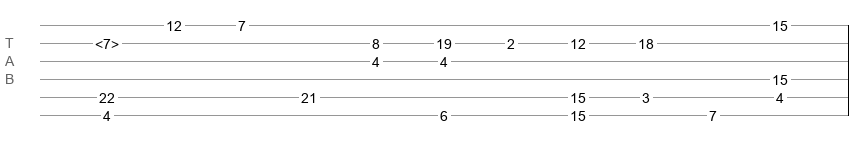12: (166, 18, 182, 28), (570, 36, 586, 46)
15: (570, 90, 586, 100), (570, 108, 586, 118), (772, 18, 788, 28), (772, 72, 788, 82)
18: (638, 36, 654, 46)
19: (436, 36, 452, 46)
2: (507, 36, 515, 46)
21: (301, 90, 317, 100)
22: (99, 90, 115, 100)
3: (642, 90, 650, 100)
4: (103, 108, 111, 118), (372, 54, 380, 64), (440, 54, 448, 64), (776, 90, 784, 100)
6: (440, 108, 448, 118)
7: (238, 18, 246, 28), (709, 108, 717, 118)
8: (372, 36, 380, 46)
harmonic: (95, 36, 119, 46)
